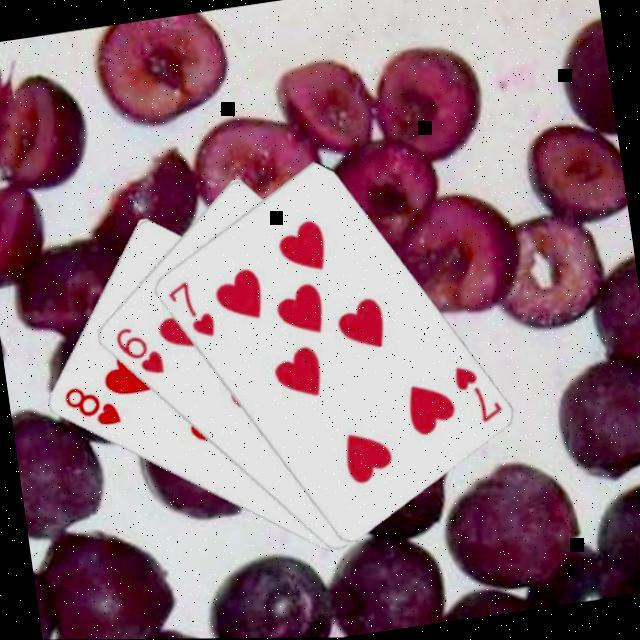6H: (111, 319, 168, 382)
7H: (449, 357, 508, 429), (163, 273, 220, 345)
8H: (59, 376, 125, 434)
